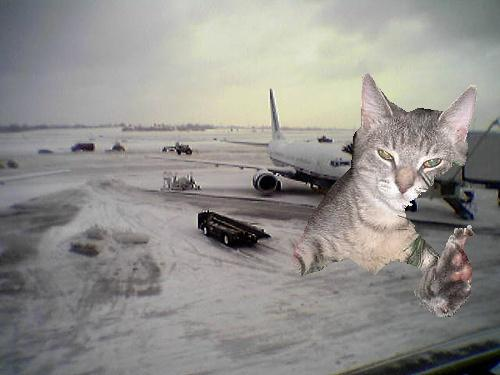tampered: (292, 73, 477, 317)
